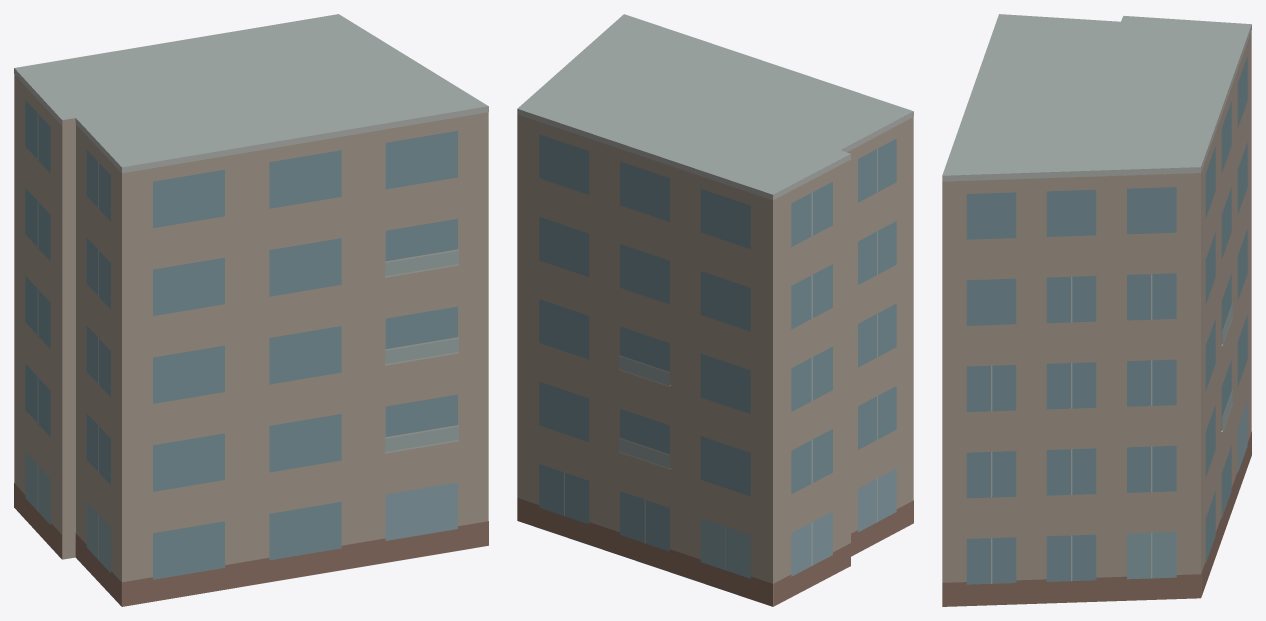
The model's file is survey-upis-32487851.glb.
3 views of the same model, side by side, from view 1: azimuth 30°, elevation 25°; view 2: azimuth 150°, elevation 25°; view 3: azimuth 270°, elevation 25° (orthographic). The views are drawn at different scales.
Visible parts, largest first — view 1: survey-upis-32487851.tmp; view 2: survey-upis-32487851.tmp; view 3: survey-upis-32487851.tmp.
Boxes of the visible parts, <box> form: survey-upis-32487851.tmp: <box>14,14,488,606</box>; survey-upis-32487851.tmp: <box>517,14,913,606</box>; survey-upis-32487851.tmp: <box>942,14,1251,606</box>.
Size of the model in its own units: 14.41 by 17.9 by 11.66.
